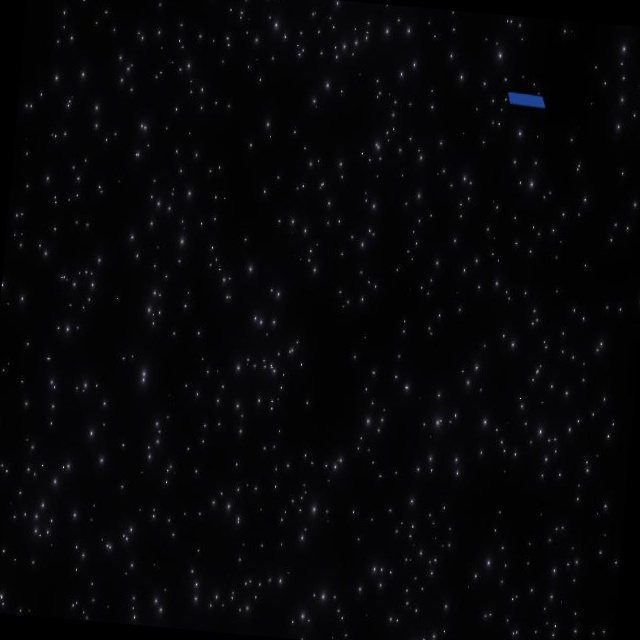large_debris: (505, 84, 550, 114)
